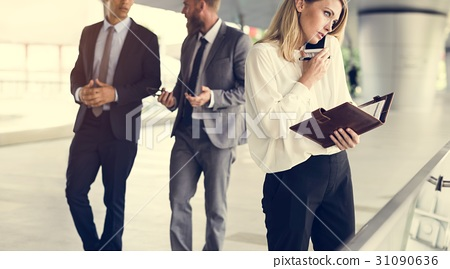phone: (296, 25, 328, 60)
